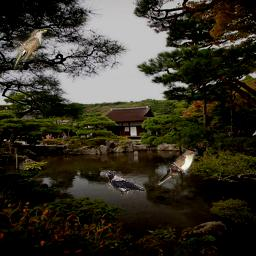Crow: (106, 171, 146, 198)
Cuckoo: (13, 29, 47, 69), (158, 151, 198, 185)
